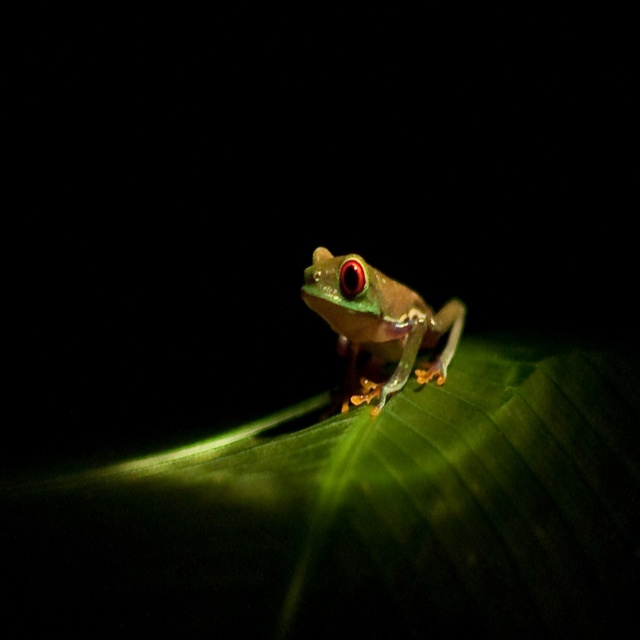Frog: (302, 246, 464, 414)
